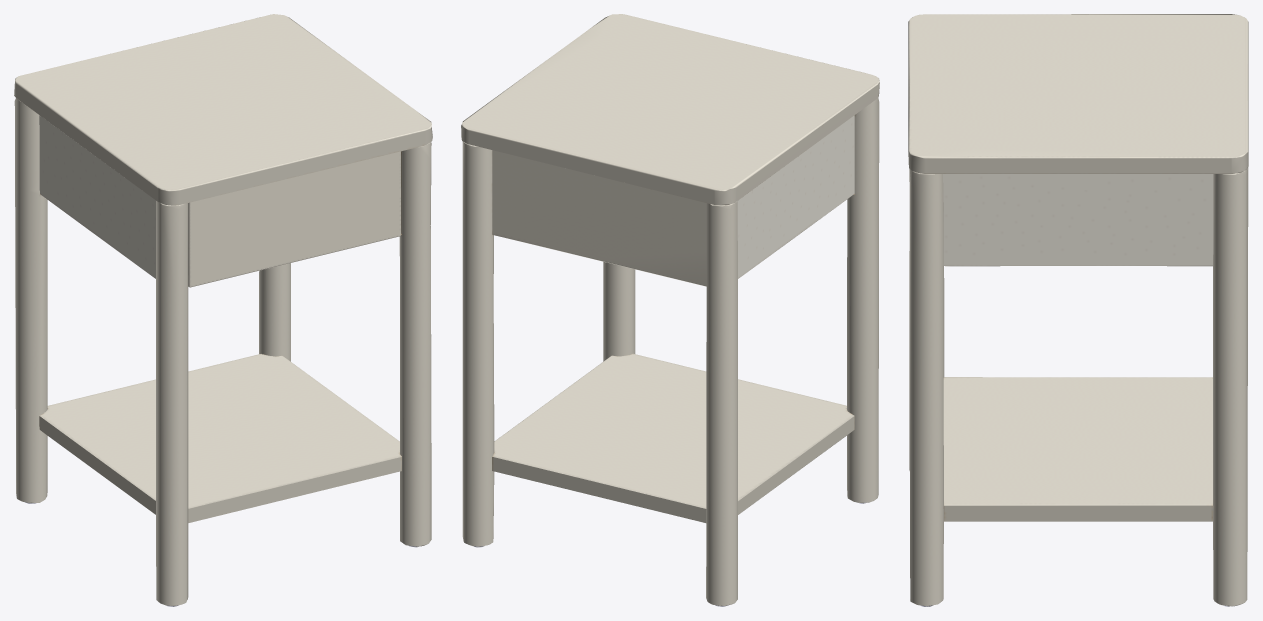
Rendered from 06 - TONSTAD Bedside table - off-white 40x40x59 cm.glb.
3 renders of one model, left to right at view 1: azimuth 30°, elevation 25°; view 2: azimuth 150°, elevation 25°; view 3: azimuth 270°, elevation 25°, orthographic. The views are drawn at different scales.
Visible parts, largest first — view 1: ASY_ART_80510007_S01_NV01, ASY_LPT01_80510007_S01_NV01; view 2: ASY_ART_80510007_S01_NV01; view 3: ASY_ART_80510007_S01_NV01.
Part boxes in pixels (x1,y1,x2,y2): ASY_ART_80510007_S01_NV01: [14, 14, 432, 606]; ASY_LPT01_80510007_S01_NV01: [188, 151, 401, 287]; ASY_ART_80510007_S01_NV01: [461, 14, 879, 606]; ASY_ART_80510007_S01_NV01: [908, 14, 1248, 606].
Size of the model in its own units: 0.4016 by 0.5902 by 0.4013.
Materials: 2 (2 with a texture image).
